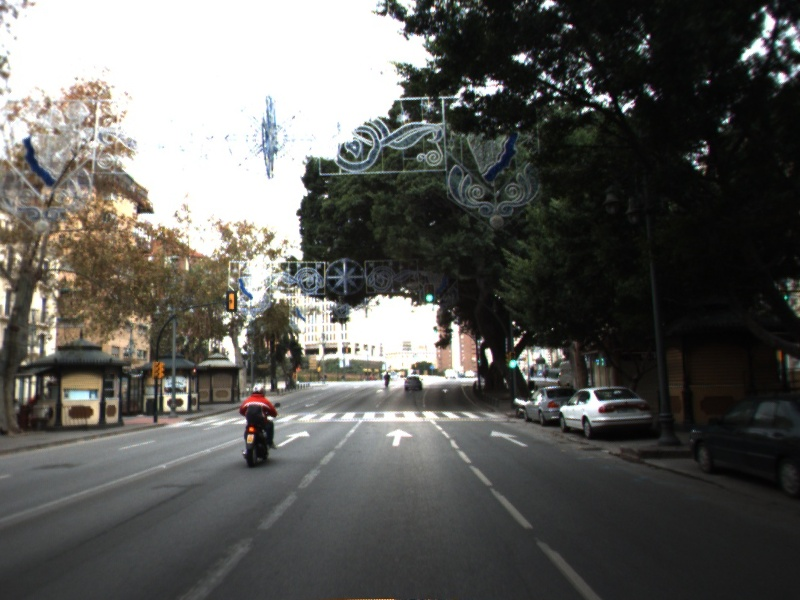STRAIGHT: (488, 428, 531, 449), (275, 429, 312, 448), (383, 427, 415, 448)
